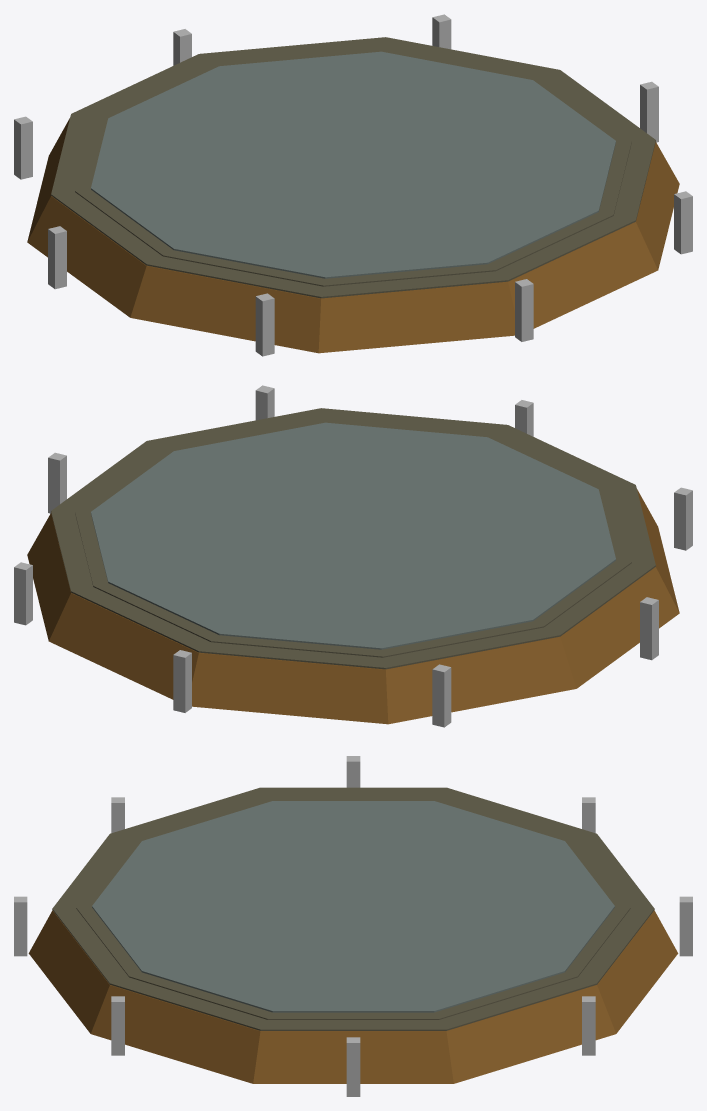
File: SM_Balsa_v3_Vallada_LOD1.fbx
The picture shows the model from 3 angles, top to bottom: view 1: azimuth 30°, elevation 25°; view 2: azimuth 150°, elevation 25°; view 3: azimuth 270°, elevation 25°; orthographic projection. The views are drawn at different scales.
Visible parts, largest first — view 1: SM_viveres_nules_v18_LOD1; view 2: SM_viveres_nules_v18_LOD1; view 3: SM_viveres_nules_v18_LOD1.
Boxes of the visible parts, x1,y1,x2,y2 form: SM_viveres_nules_v18_LOD1: (14,14,692,356); SM_viveres_nules_v18_LOD1: (14,385,692,727); SM_viveres_nules_v18_LOD1: (14,756,692,1096).
Size of the model in its own units: 17.14 by 1.5 by 17.14.
